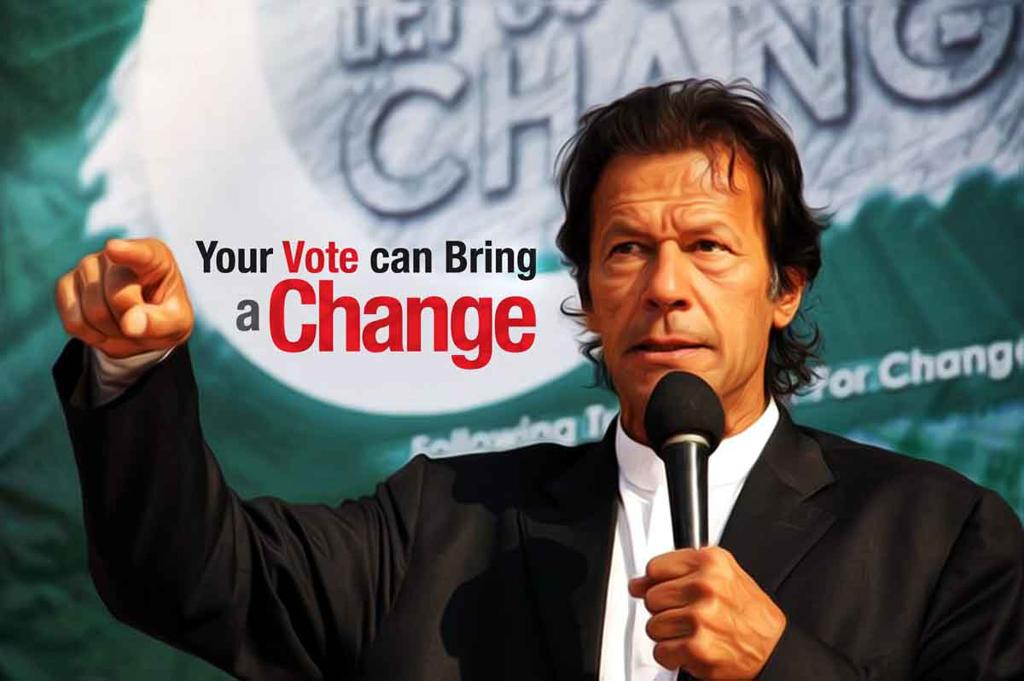face: (590, 154, 770, 394)
